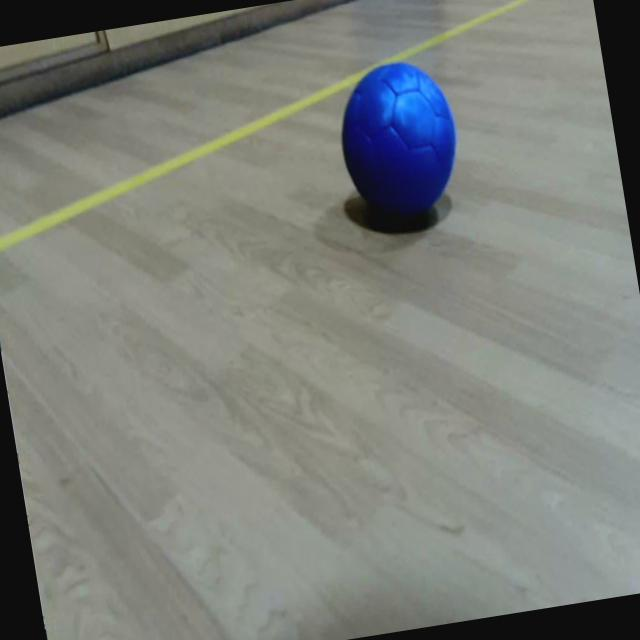blue_ball: (332, 51, 468, 226)
